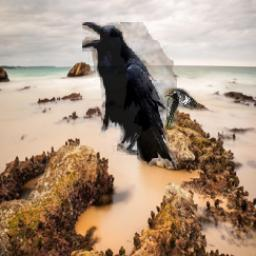Crow: (82, 23, 177, 172)
Woodpecker: (164, 88, 198, 130)
